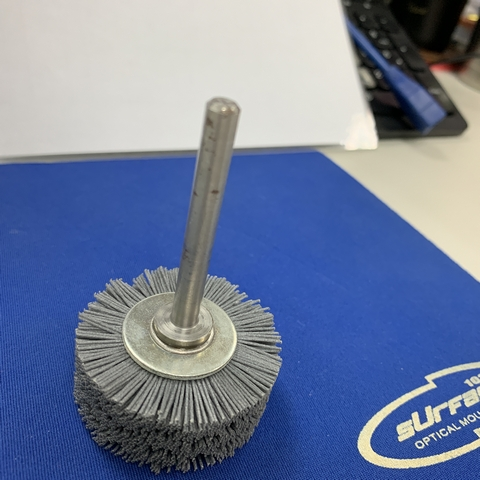Wheel Brush: (68, 90, 293, 474), (76, 99, 270, 467), (88, 91, 272, 466)
